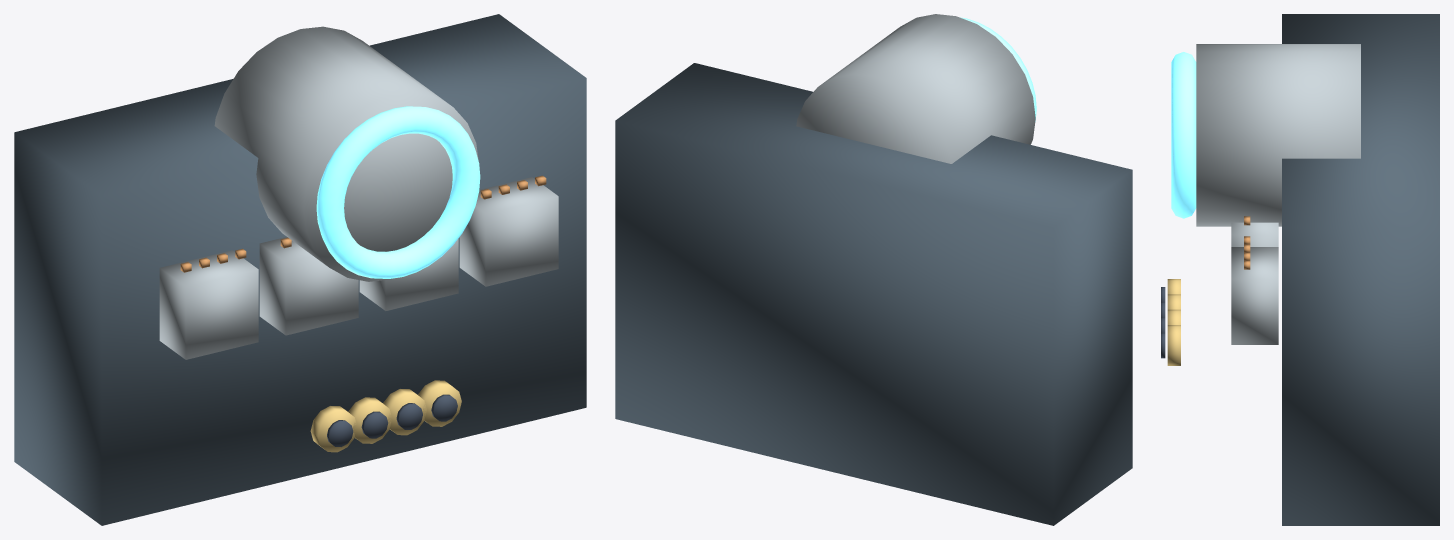
File: 07_L84_CoPackagedOpticalTransmitter.glb
3 renders of one model, left to right at view 1: azimuth 30°, elevation 25°; view 2: azimuth 150°, elevation 25°; view 3: azimuth 270°, elevation 25°, orthographic. The views are drawn at different scales.
Parts seen in each view (by area): view 1: L84_CoPackagedOpticalTransmit_Part_0000, L84_CoPackagedOpticalTransmit_Part_0001, L84_CoPackagedOpticalTransmit_Part_0004, L84_CoPackagedOpticalTransmit_Part_0005, L84_CoPackagedOpticalTransmit_Part_0007, L84_CoPackagedOpticalTransmit_Part_0011, L84_CoPackagedOpticalTransmit_Part_0009, L84_CoPackagedOpticalTransmit_Part_0002; view 2: L84_CoPackagedOpticalTransmit_Part_0000, L84_CoPackagedOpticalTransmit_Part_0001; view 3: L84_CoPackagedOpticalTransmit_Part_0000, L84_CoPackagedOpticalTransmit_Part_0001, L84_CoPackagedOpticalTransmit_Part_0004, L84_CoPackagedOpticalTransmit_Part_0011.
Part boxes in pixels (x1,y1,x2,y2): L84_CoPackagedOpticalTransmit_Part_0000: [14, 14, 586, 525]; L84_CoPackagedOpticalTransmit_Part_0001: [159, 26, 558, 359]; L84_CoPackagedOpticalTransmit_Part_0004: [316, 106, 480, 278]; L84_CoPackagedOpticalTransmit_Part_0005: [310, 406, 356, 452]; L84_CoPackagedOpticalTransmit_Part_0007: [348, 397, 391, 443]; L84_CoPackagedOpticalTransmit_Part_0011: [418, 380, 461, 426]; L84_CoPackagedOpticalTransmit_Part_0009: [383, 389, 426, 435]; L84_CoPackagedOpticalTransmit_Part_0002: [180, 184, 509, 272]; L84_CoPackagedOpticalTransmit_Part_0000: [615, 63, 1132, 525]; L84_CoPackagedOpticalTransmit_Part_0001: [796, 14, 1035, 163]; L84_CoPackagedOpticalTransmit_Part_0000: [1282, 14, 1439, 525]; L84_CoPackagedOpticalTransmit_Part_0001: [1196, 44, 1360, 344]; L84_CoPackagedOpticalTransmit_Part_0004: [1171, 52, 1196, 218]; L84_CoPackagedOpticalTransmit_Part_0011: [1167, 325, 1180, 365].
Bounding box in the file's own units: 1.6 × 1.28 × 0.882.
